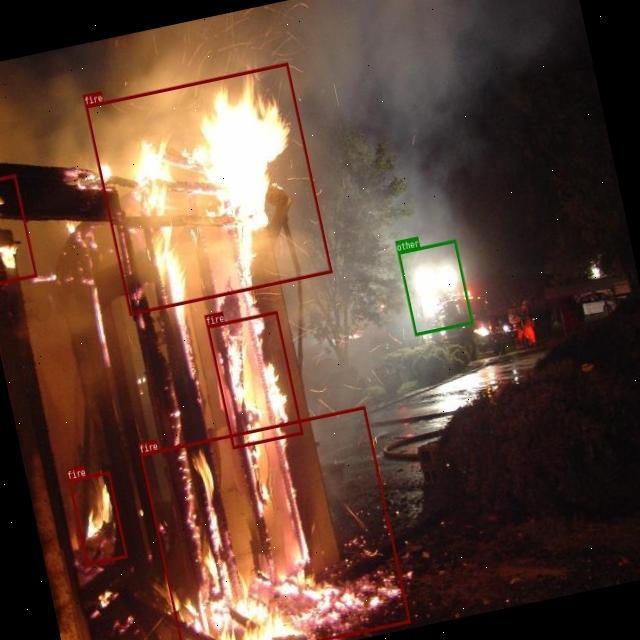fire: (140, 405, 410, 640), (85, 62, 332, 314), (205, 310, 302, 448), (67, 470, 126, 565), (0, 173, 37, 287)
